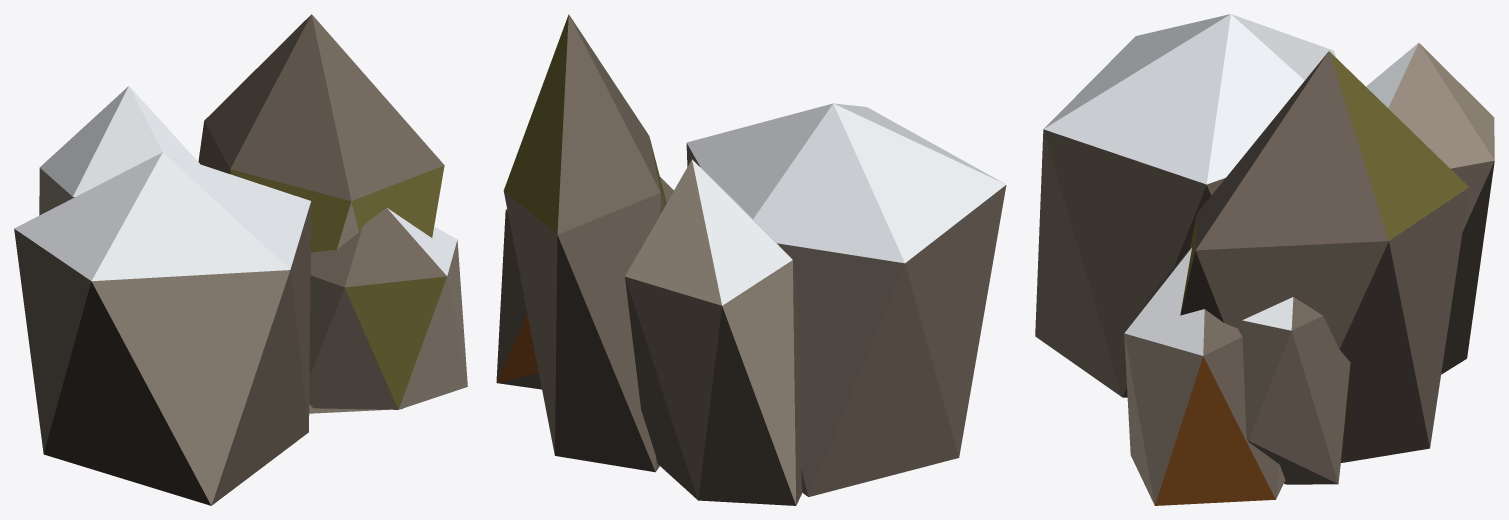
Rendered from rs_crag_a.glb.
3 views of the same model, side by side, from view 1: azimuth 30°, elevation 25°; view 2: azimuth 150°, elevation 25°; view 3: azimuth 270°, elevation 25° (orthographic). The views are drawn at different scales.
Visible parts, largest first — view 1: rs_crag_a.001; view 2: rs_crag_a.001; view 3: rs_crag_a.001.
Part boxes in pixels (x1,y1,x2,y2): rs_crag_a.001: (14,14,467,505); rs_crag_a.001: (496,14,1006,505); rs_crag_a.001: (1035,14,1494,505).
Size of the model in its own units: 5.17 by 4.34 by 4.32.
